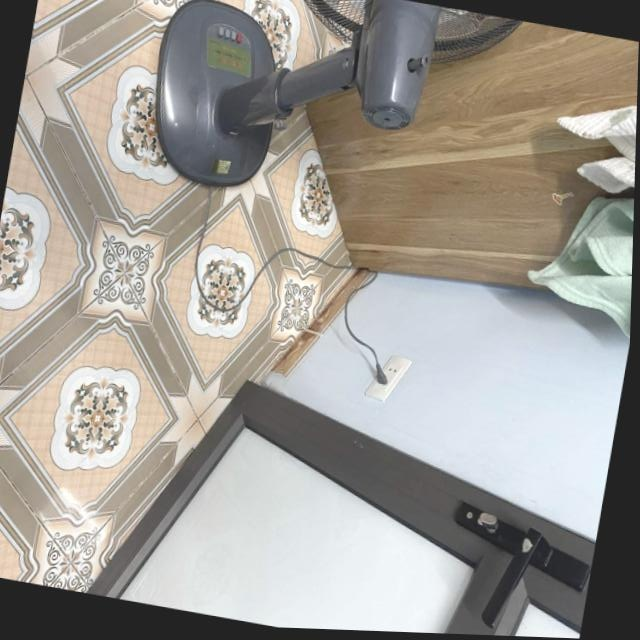outlet: (363, 350, 414, 407)
